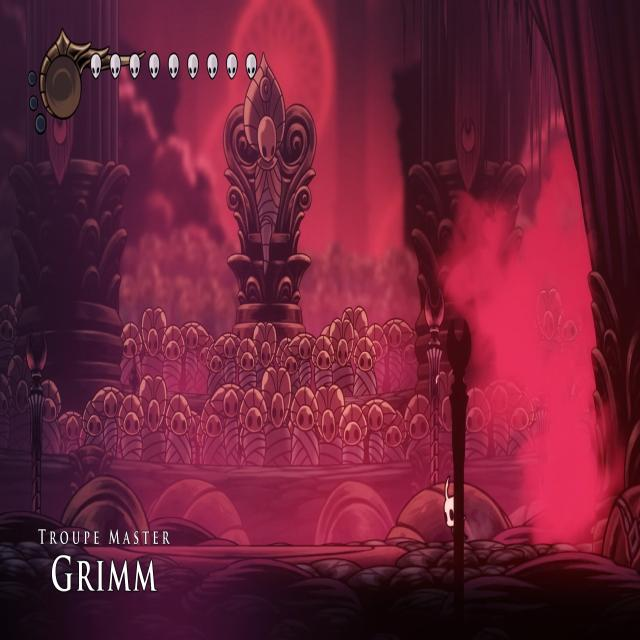Player: (439, 468, 468, 544)
